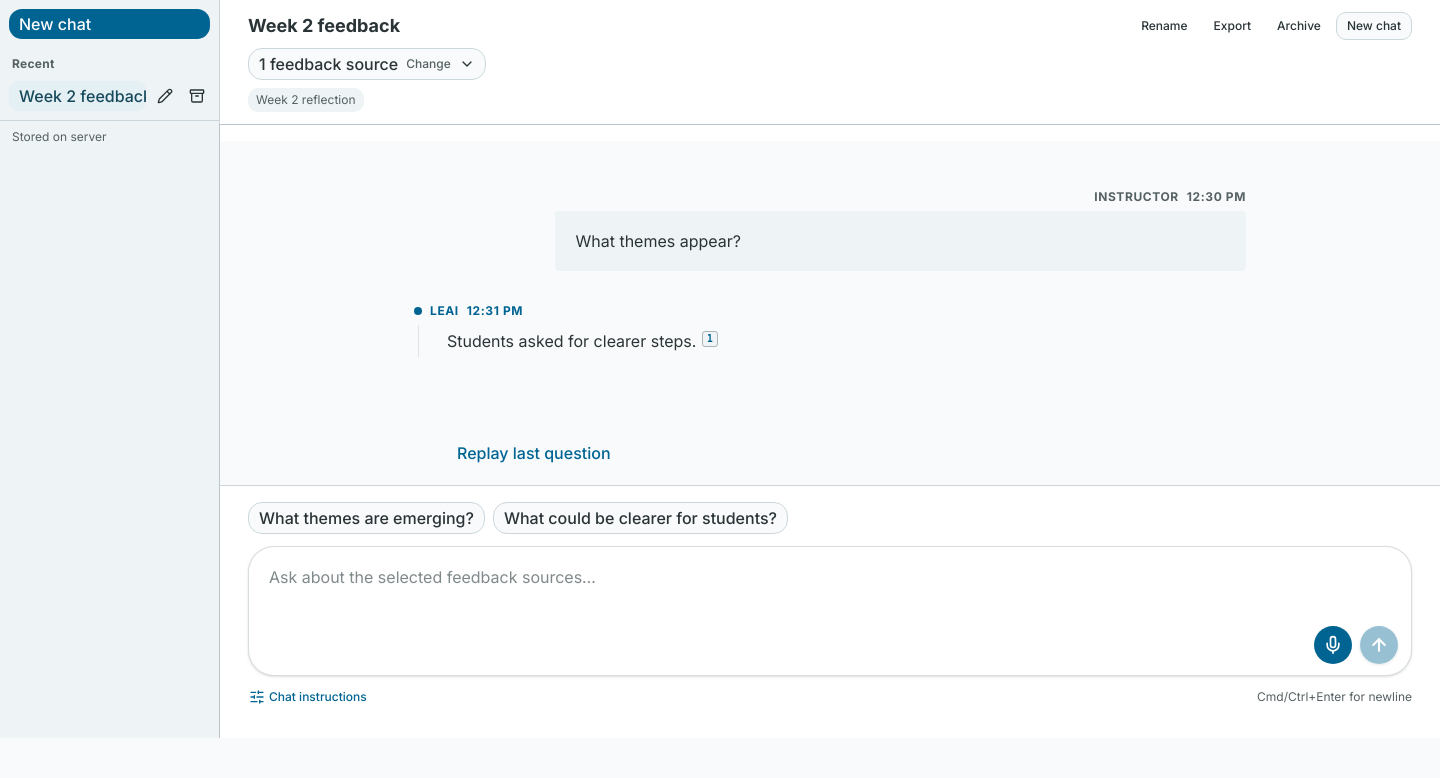
adds sources to the current Chat and sends an idempotent turn
Click the 1st button "New chat": coordinates (110, 24) [8,8,211,40]
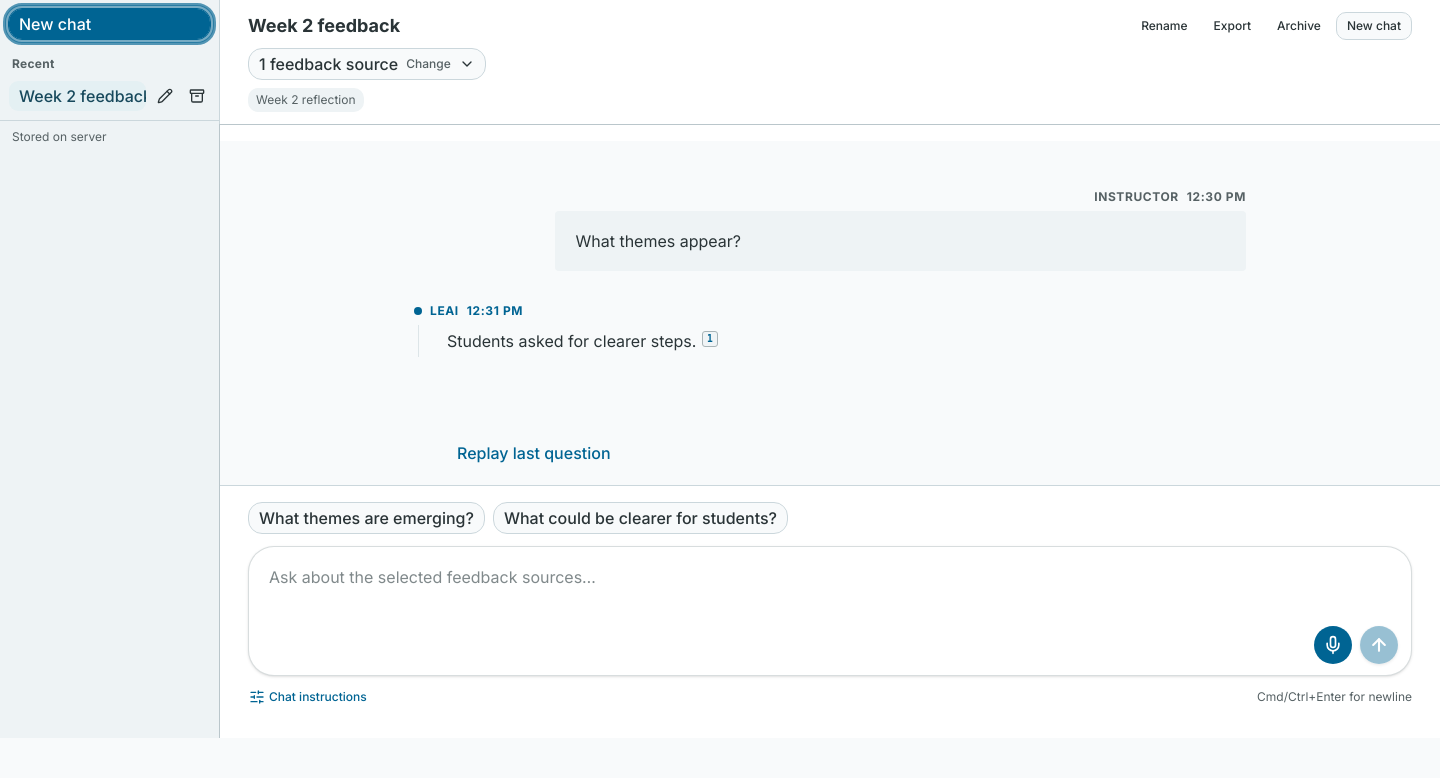
Click the button "1 feedback source Change": coordinates (367, 64) [248,48,486,80]
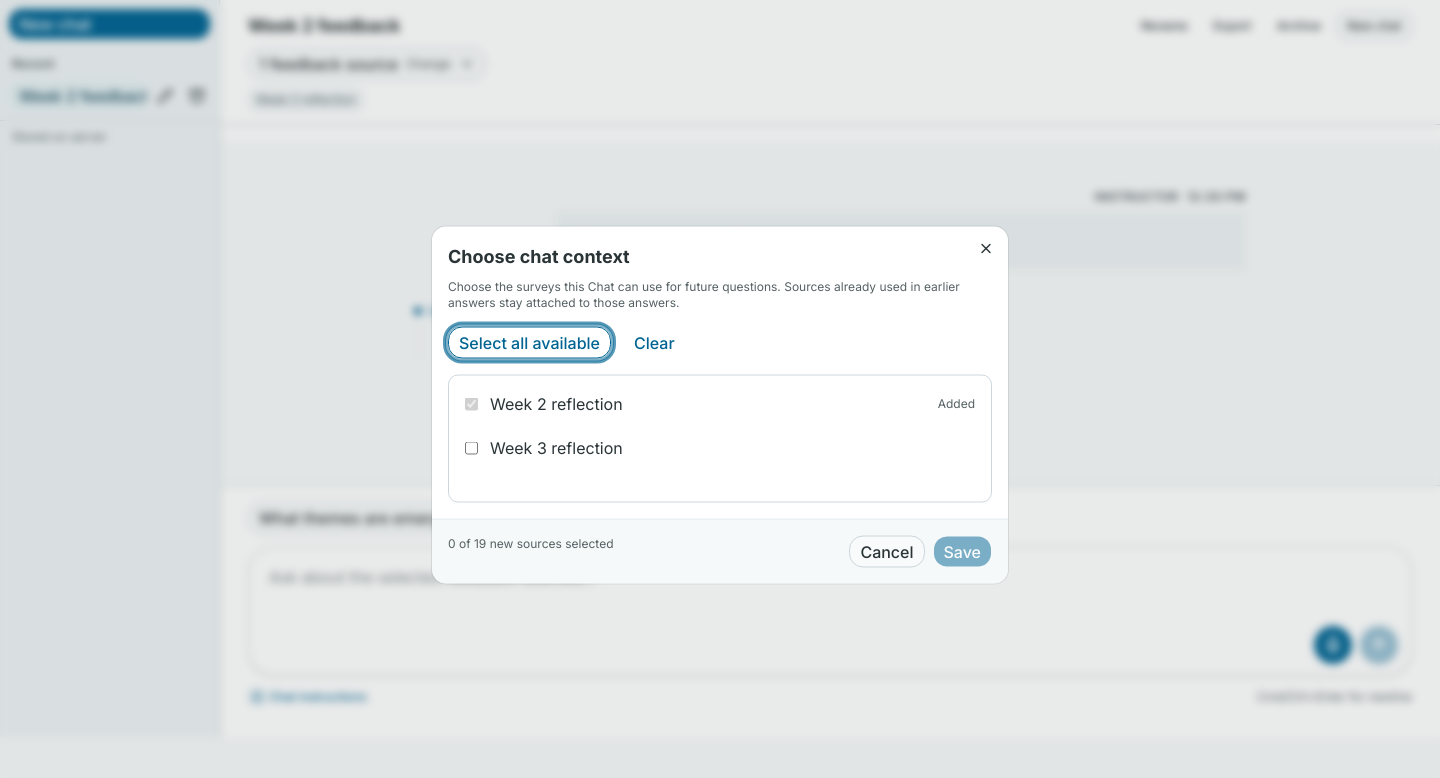
Click the checkbox labelled "Week 3 reflection": coordinates (472, 448) [465,441,478,454]
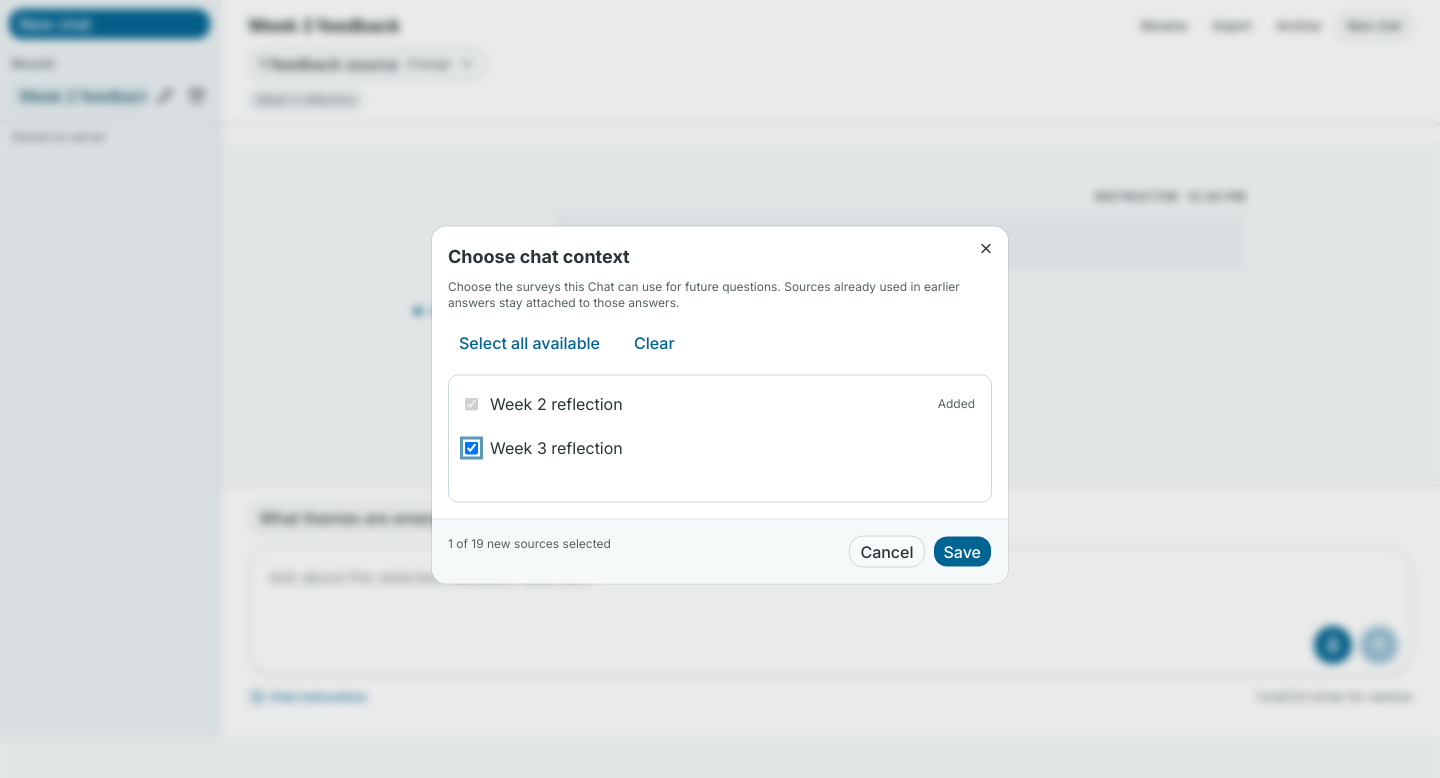
Click the button "Save": coordinates (962, 552) [932,536,992,568]
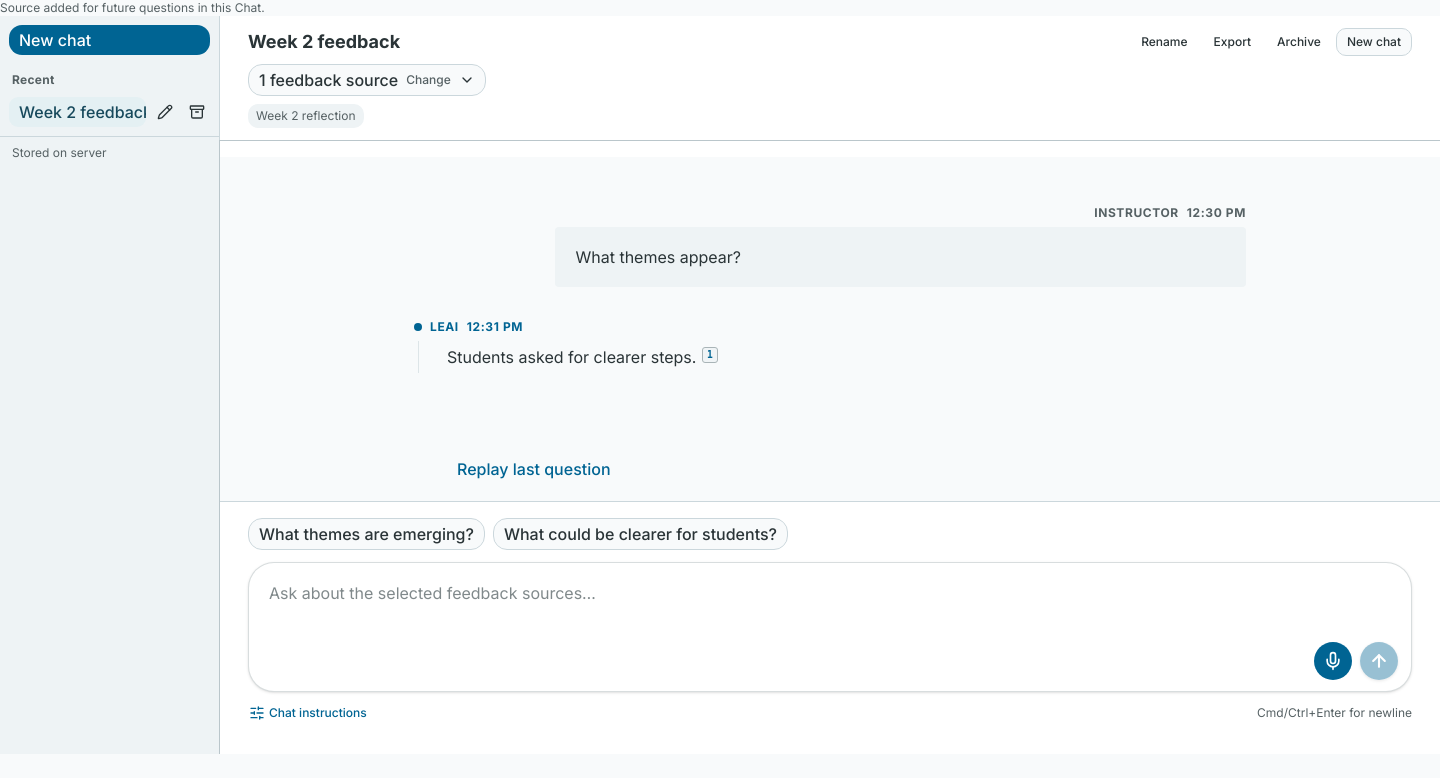
In the text box named "Message": coordinates (830, 605) [259,573,1401,637], type "What themes appear?"
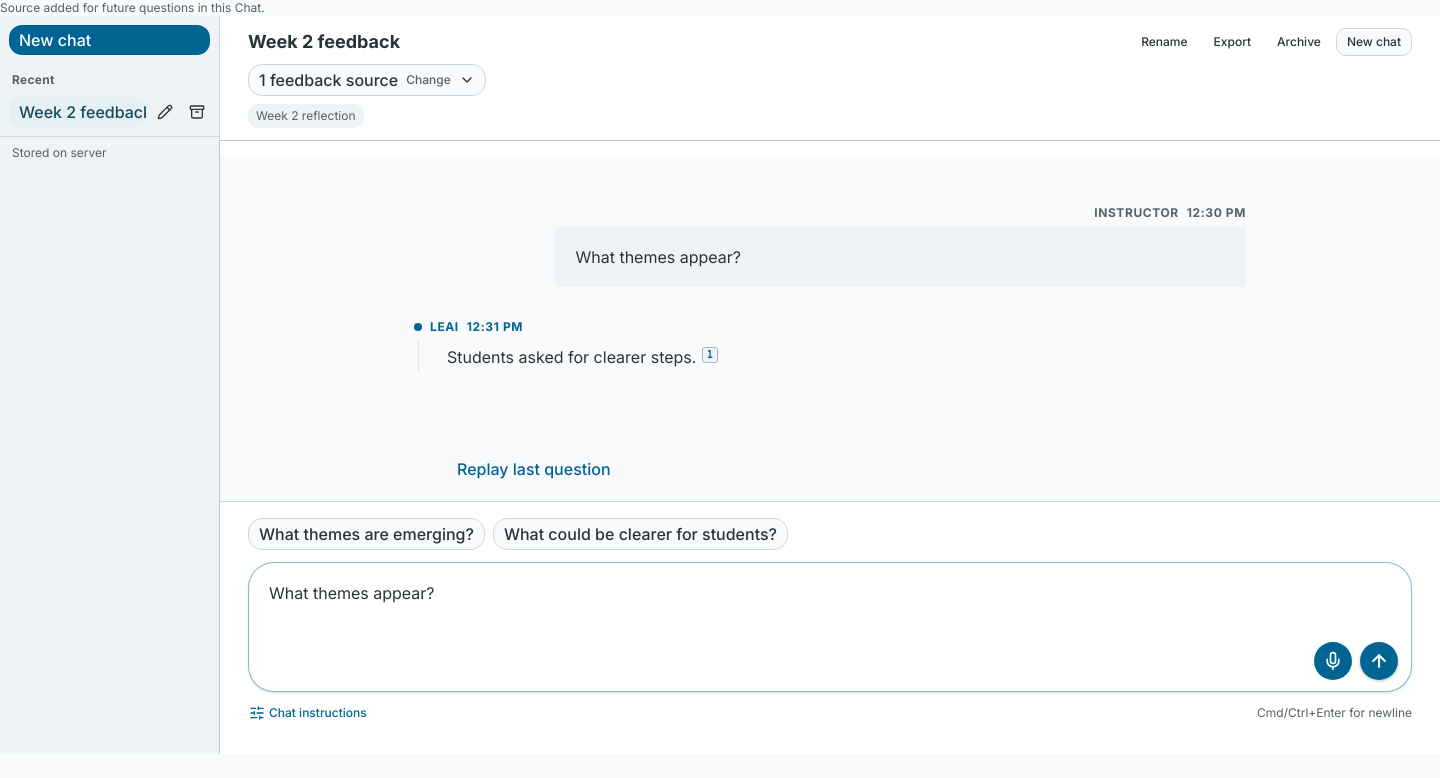
Click the button named "Send": coordinates (1379, 661) [1359,641,1399,681]
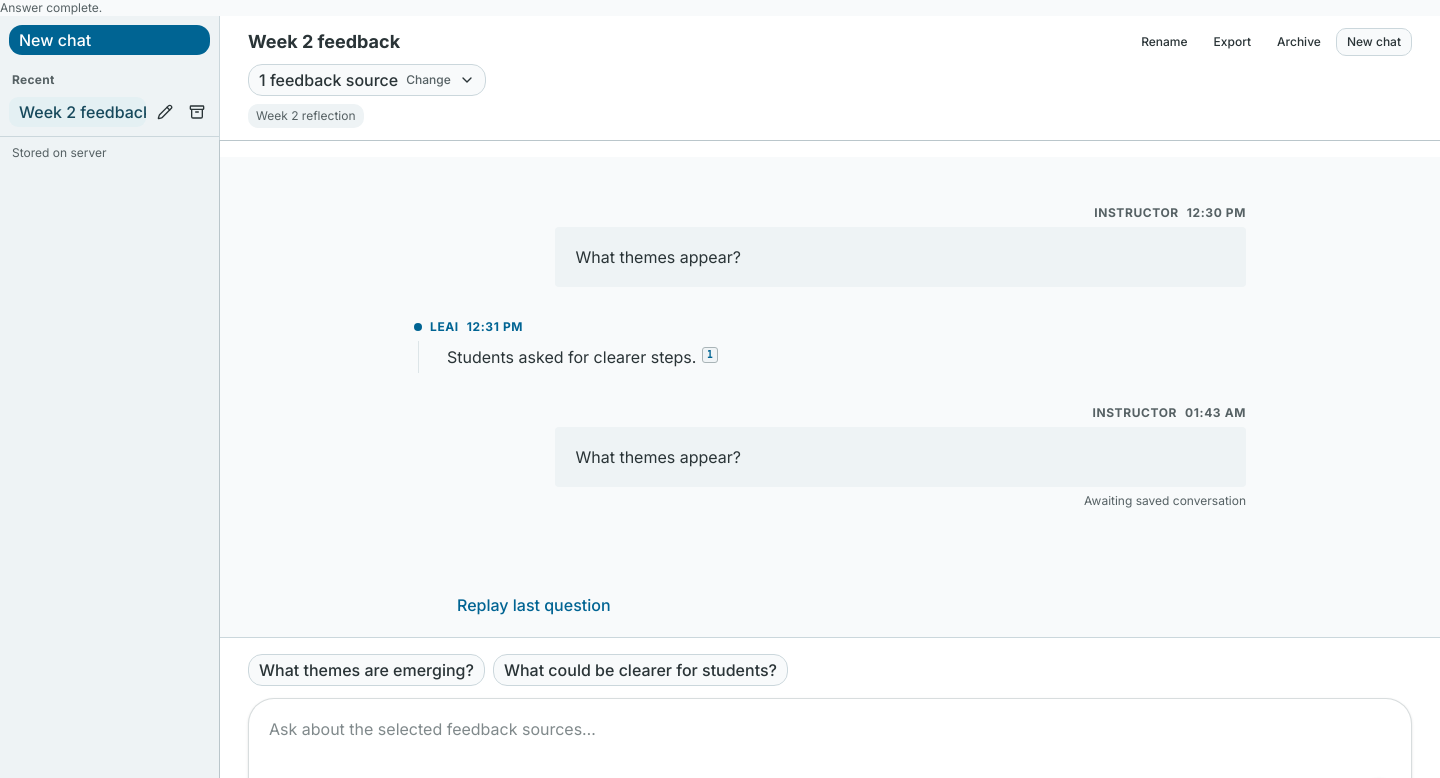
Now the message reads "Answer complete.", box [0,0,102,15]
